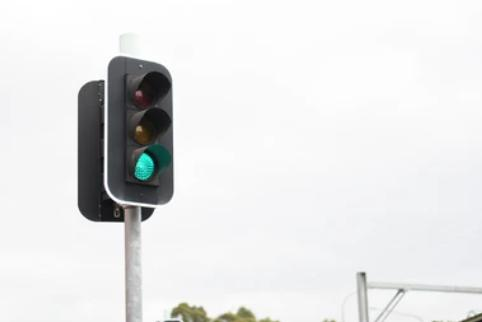green_light: (104, 55, 175, 207)
